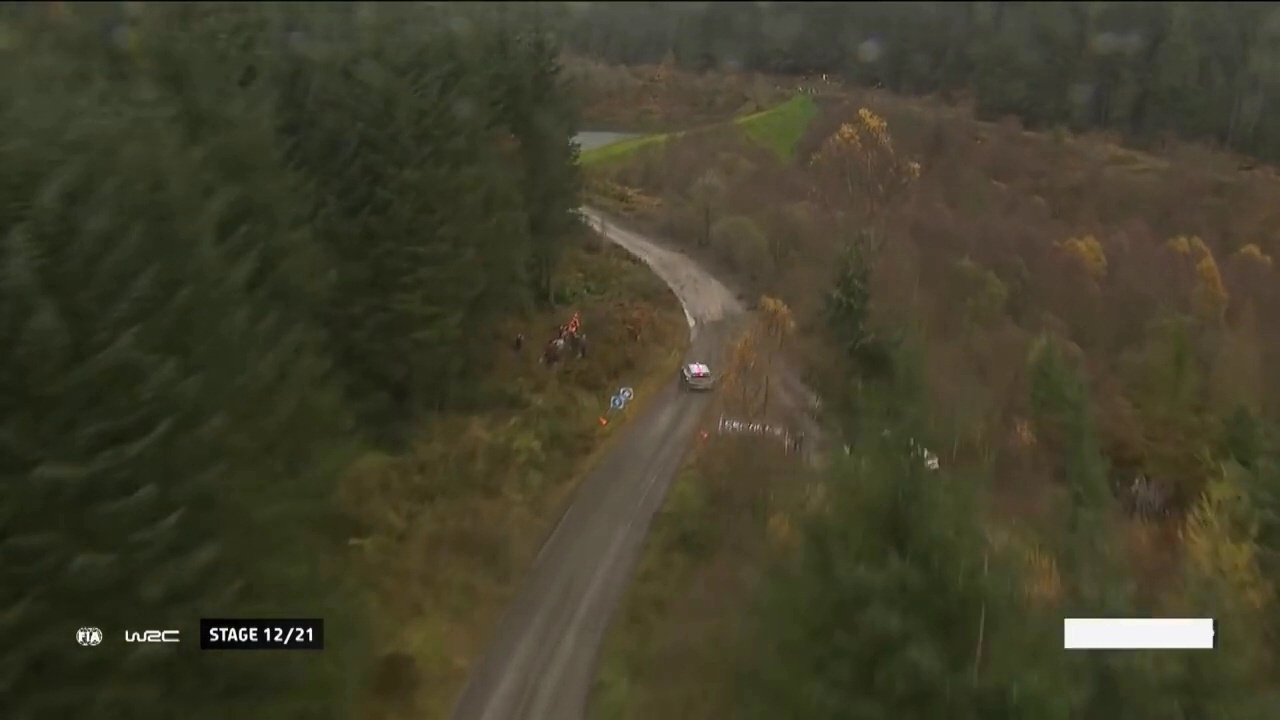araba: (677, 359, 714, 392)
